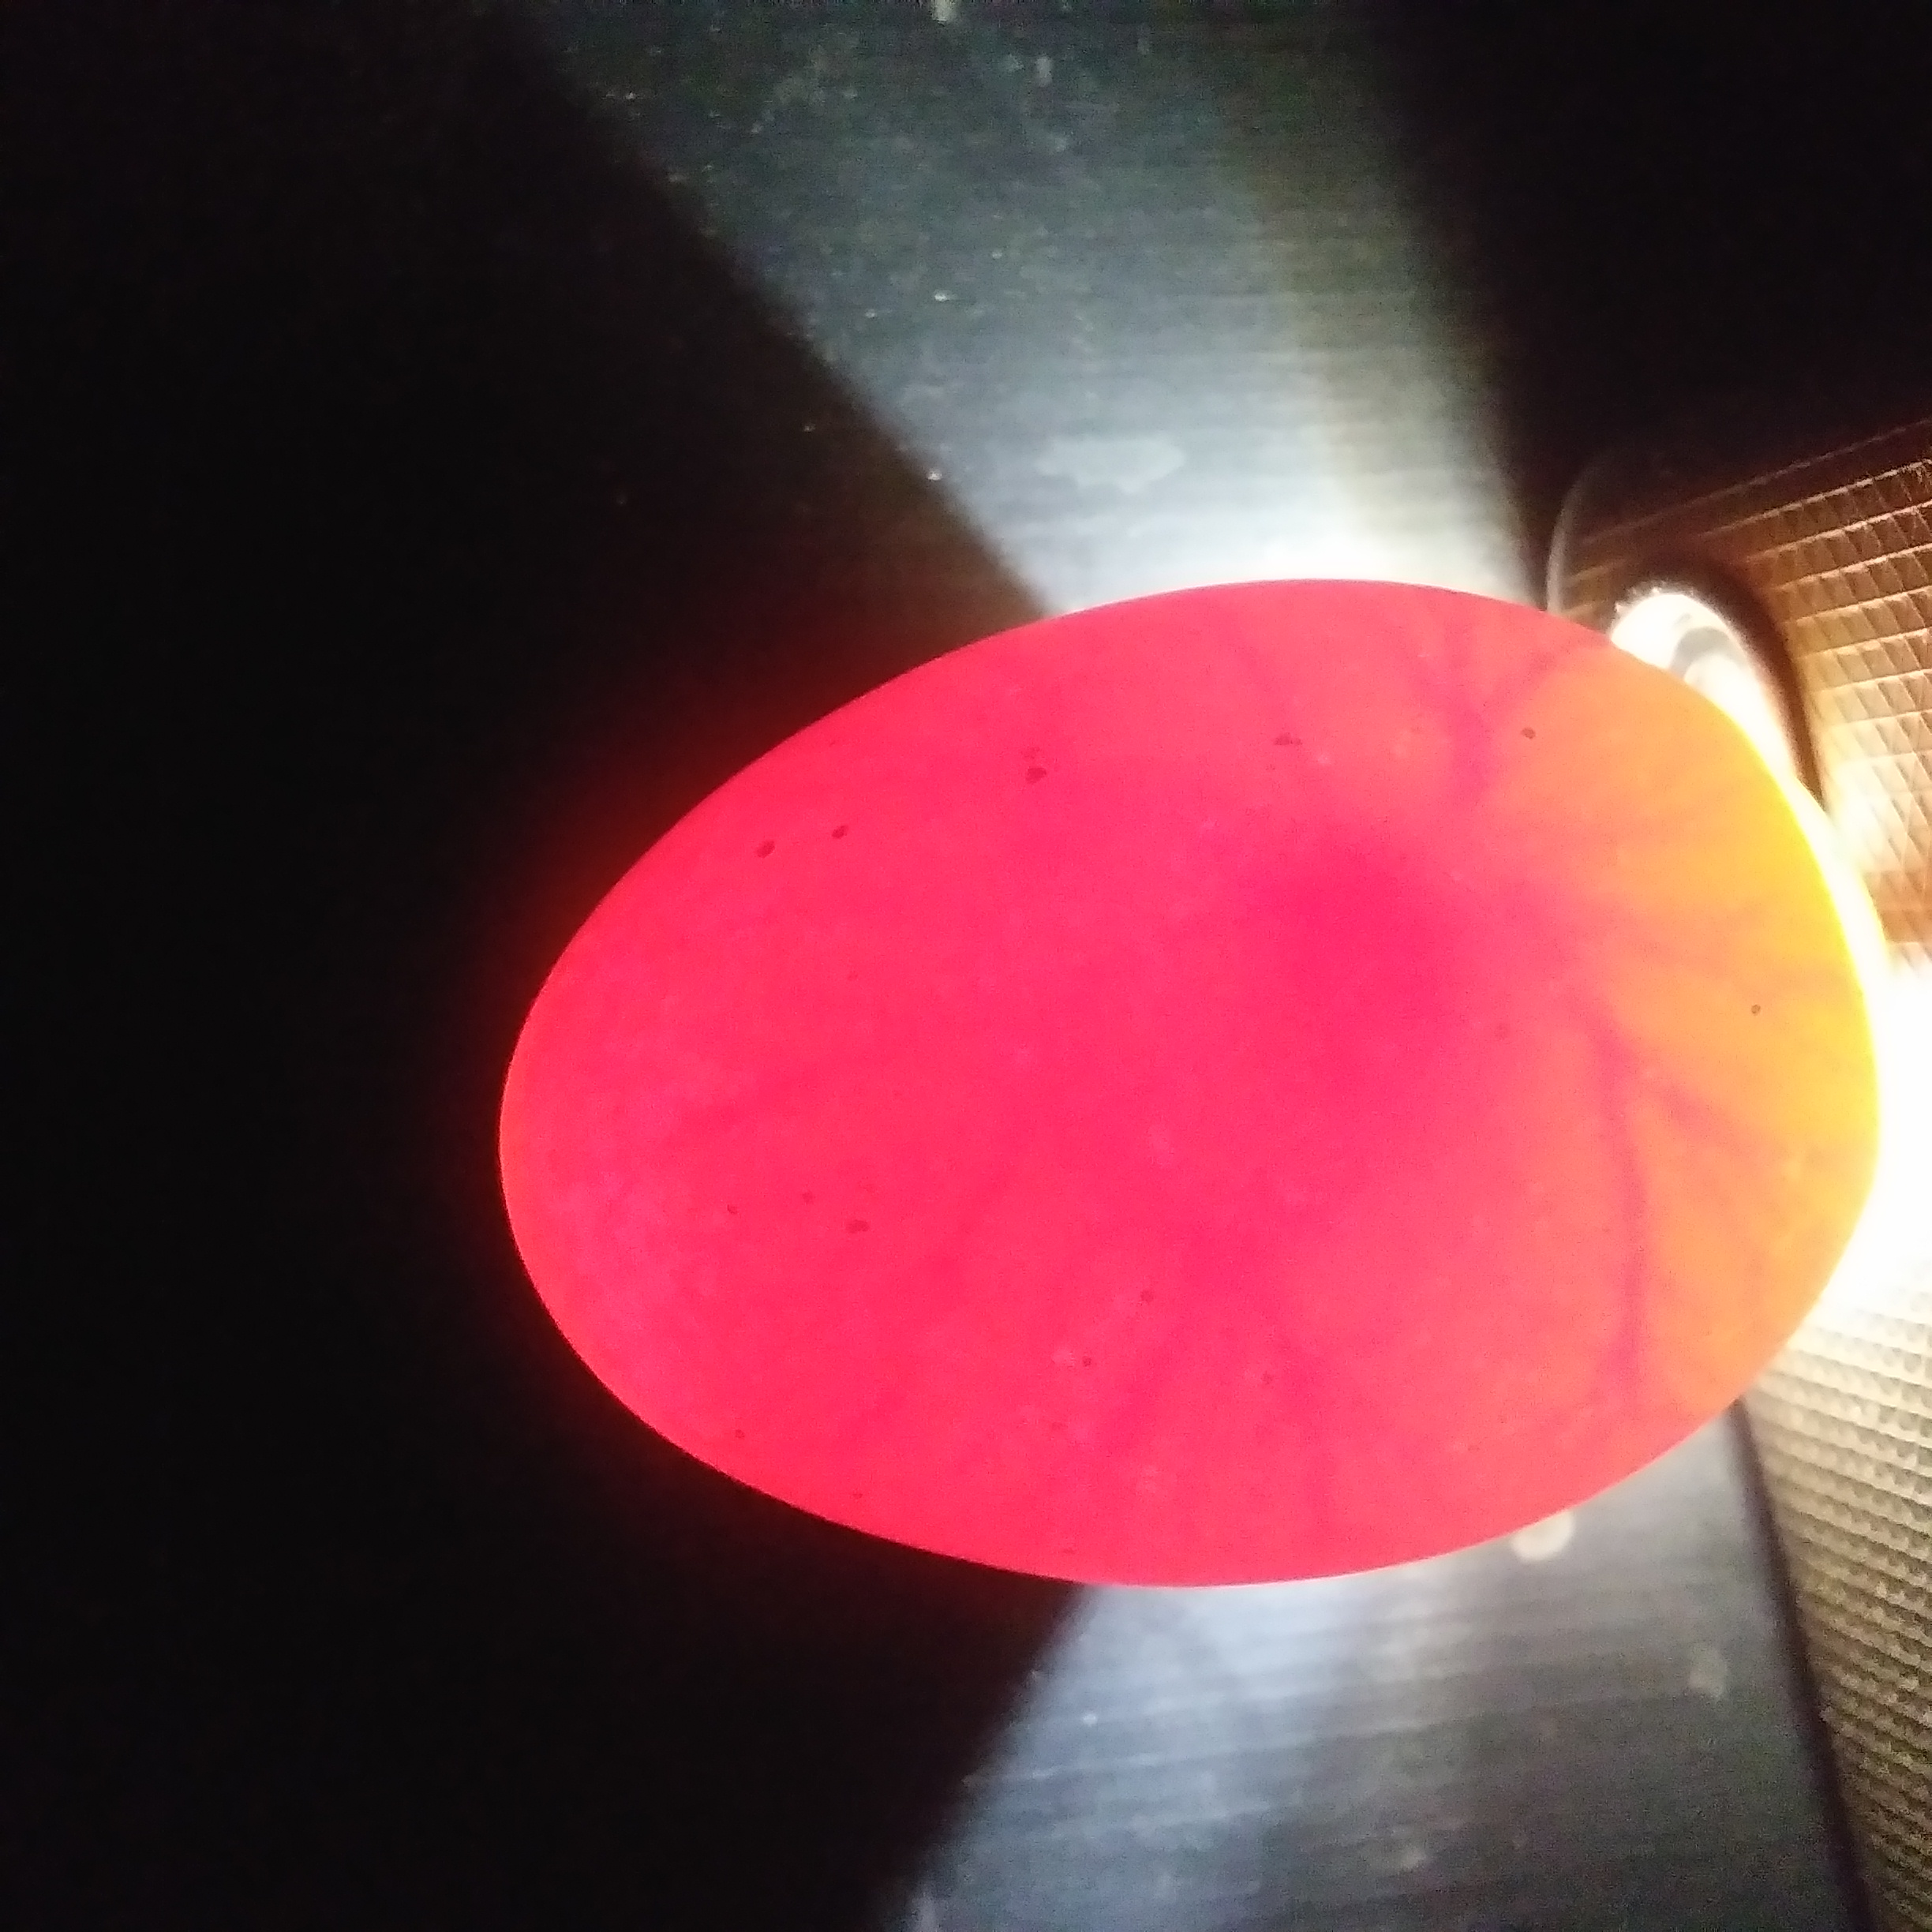bloodcell: (1454, 660, 1741, 1352)
